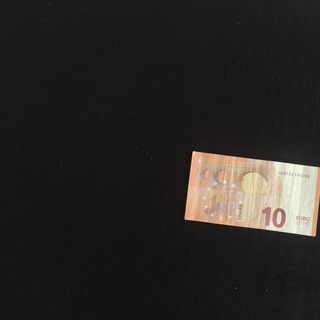10EUROBack: (183, 150, 320, 237)
